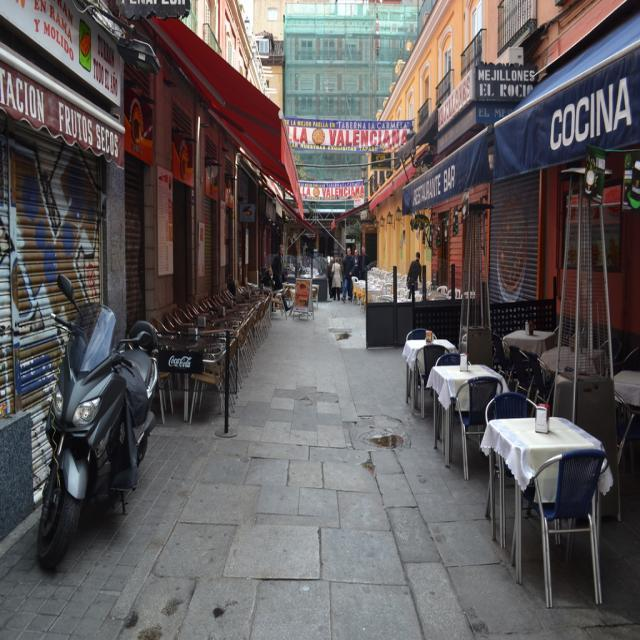bus: (24, 304, 152, 574)
